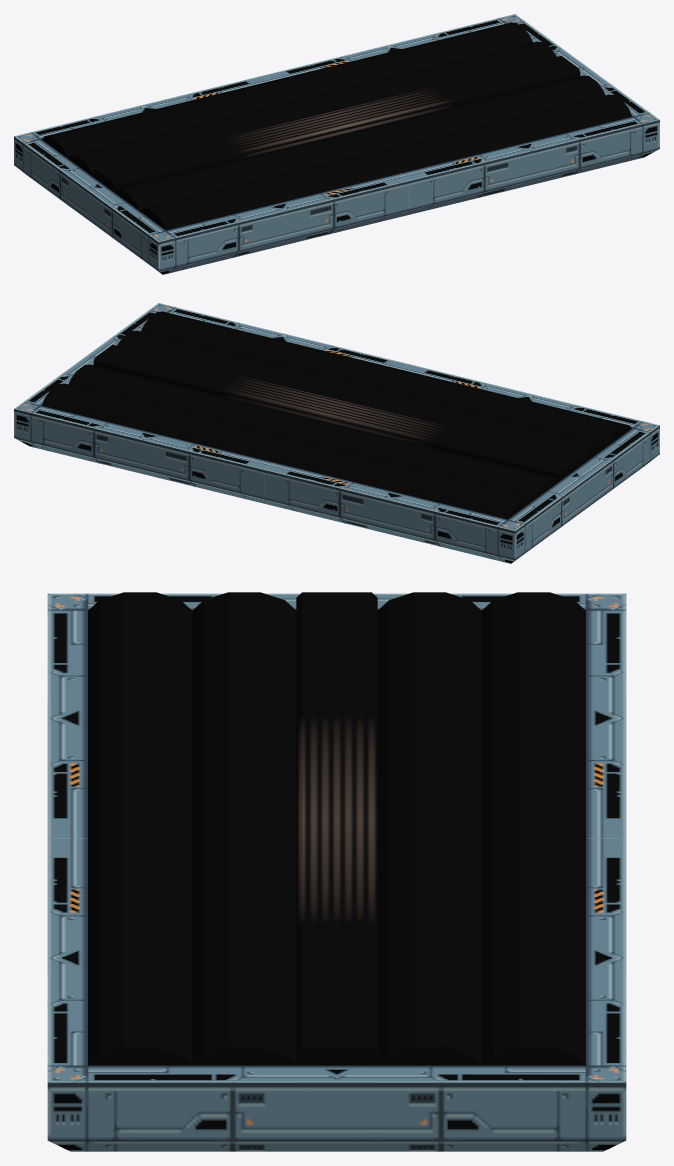
The model's file is BouncyPlatform_2x4_Metal.fbx.
3 views of the same model, one above another, from view 1: azimuth 30°, elevation 25°; view 2: azimuth 150°, elevation 25°; view 3: azimuth 270°, elevation 25° (orthographic). The views are drawn at different scales.
Parts seen in each view (by area): view 1: BouncyPlatform_2x4_Metal; view 2: BouncyPlatform_2x4_Metal; view 3: BouncyPlatform_2x4_Metal.
Part boxes in pixels (box(x1,y1,x2,y2)): BouncyPlatform_2x4_Metal: box(14, 14, 659, 274); BouncyPlatform_2x4_Metal: box(14, 303, 659, 563); BouncyPlatform_2x4_Metal: box(47, 592, 626, 1151).
Bounding box in the file's own units: 100 × 9.25 × 50.
